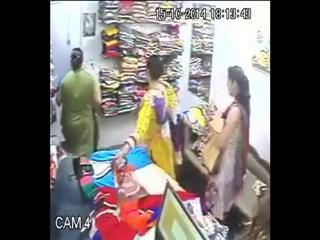Normal: (112, 54, 180, 182), (206, 65, 252, 222), (56, 47, 106, 157)
